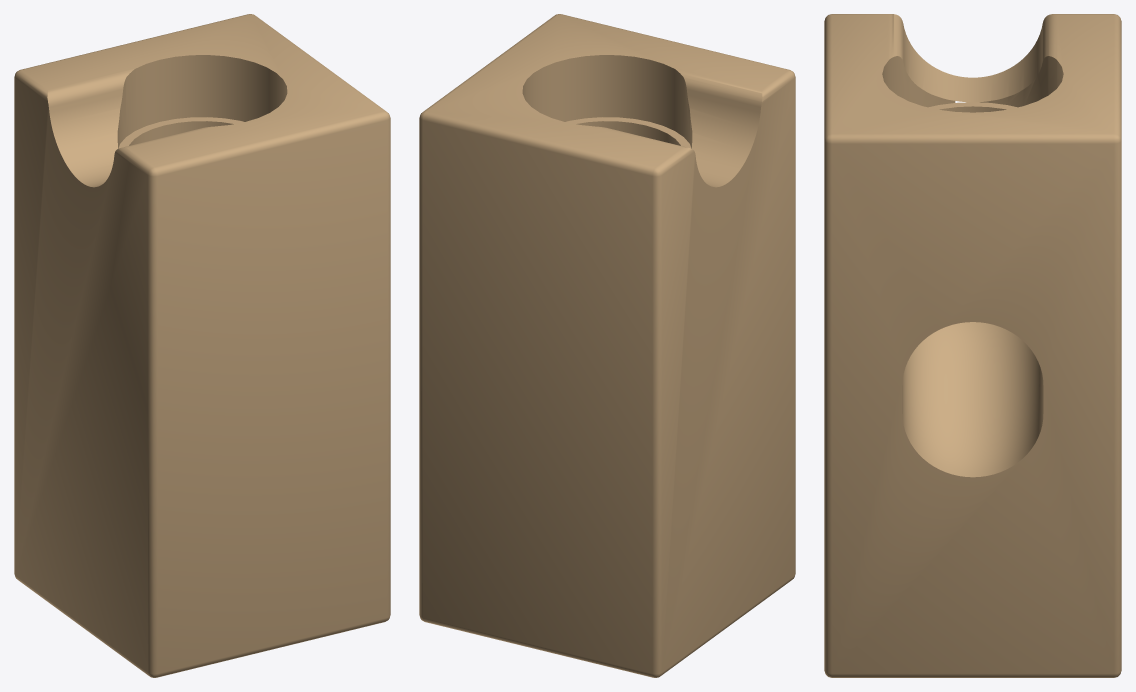
File: blk_redirect_l3.glb
3 views of the same model, side by side, from view 1: azimuth 30°, elevation 25°; view 2: azimuth 150°, elevation 25°; view 3: azimuth 270°, elevation 25° (orthographic). The views are drawn at different scales.
Parts seen in each view (by area): view 1: blk_redirect_l3_lod0; view 2: blk_redirect_l3_lod0; view 3: blk_redirect_l3_lod0.
Boxes of the visible parts, x1,y1,x2,y2 form: blk_redirect_l3_lod0: [14, 14, 390, 677]; blk_redirect_l3_lod0: [419, 14, 795, 677]; blk_redirect_l3_lod0: [824, 14, 1121, 677].
Size of what is drawn, in the model's own units: 0.059 by 0.119 by 0.059.
